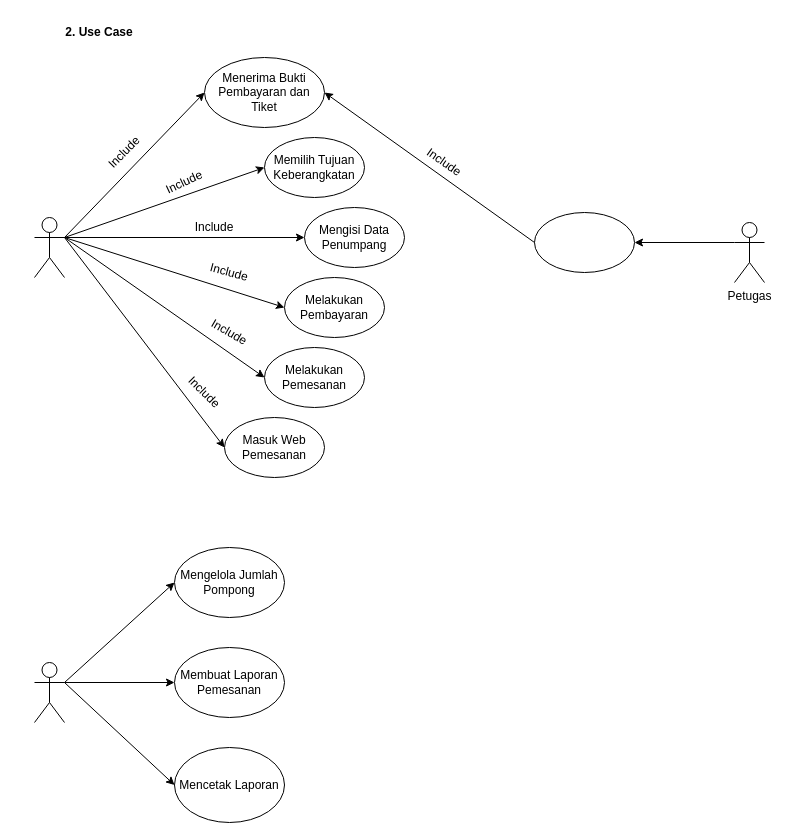
Image size: 789x840. Some labels were removed from this diagram. The centre of each missing label's shape, as x and y in pixels:
"Admin" belongs at pixel 49 692.
"Memeriksa Tiket Penumpang" belongs at pixel 584 242.
"Penumpang" belongs at pixel 49 247.
